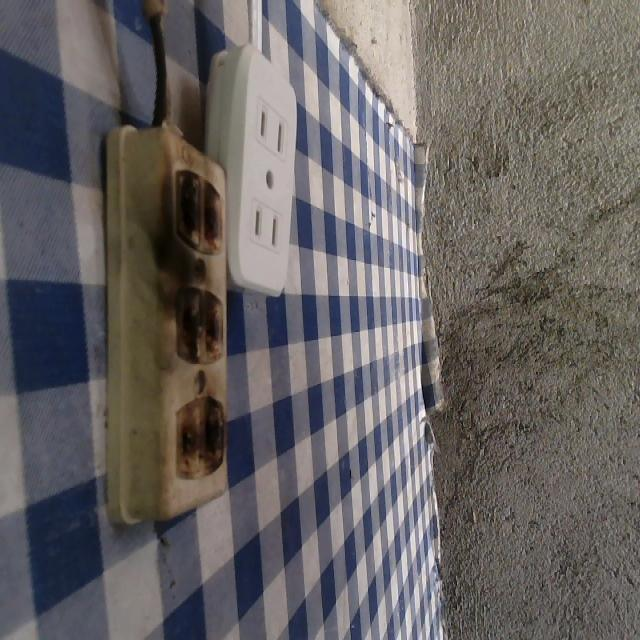-: (166, 280, 228, 371), (171, 168, 233, 257), (172, 393, 228, 480)
